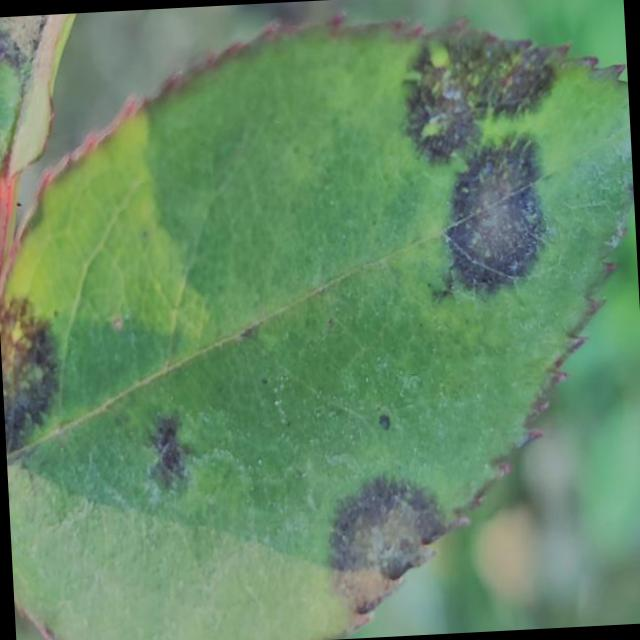Black_spot: (431, 131, 553, 301), (318, 468, 454, 586)
Rose: (0, 0, 640, 640)
